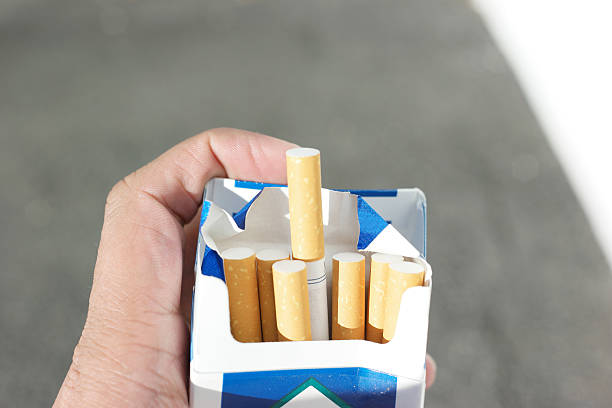cigarette: (187, 175, 435, 408), (285, 147, 329, 342), (380, 260, 426, 345), (221, 247, 261, 343), (271, 259, 313, 342), (366, 254, 405, 342), (255, 248, 290, 343), (330, 251, 367, 340)
